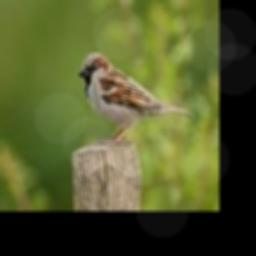Sparrow: (78, 52, 194, 144)
